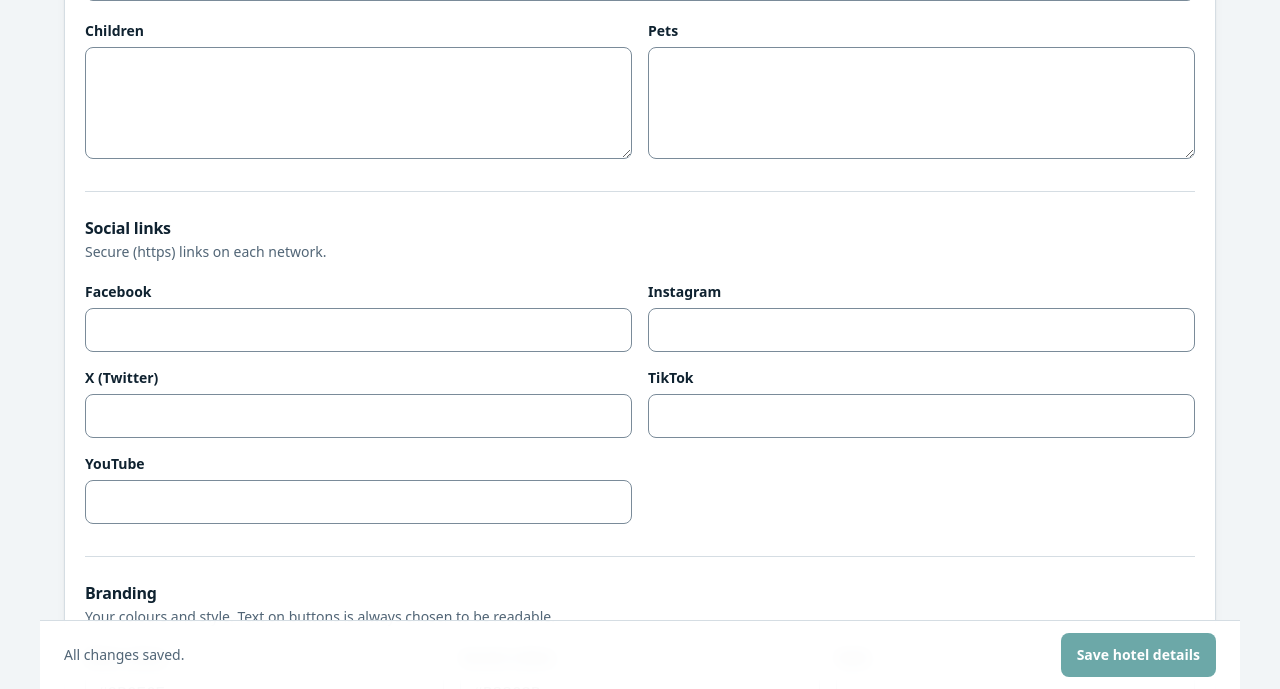
Scenario: hotel details form › Facebook: shows a clear message and sends nothing
This screenshot has width=1280, height=689.
(page scrolled)
Type "http://facebook.com/x" into the field labelled "Facebook".
click(358, 330); type("http://facebook.com/x")  # box [85,308,632,352]
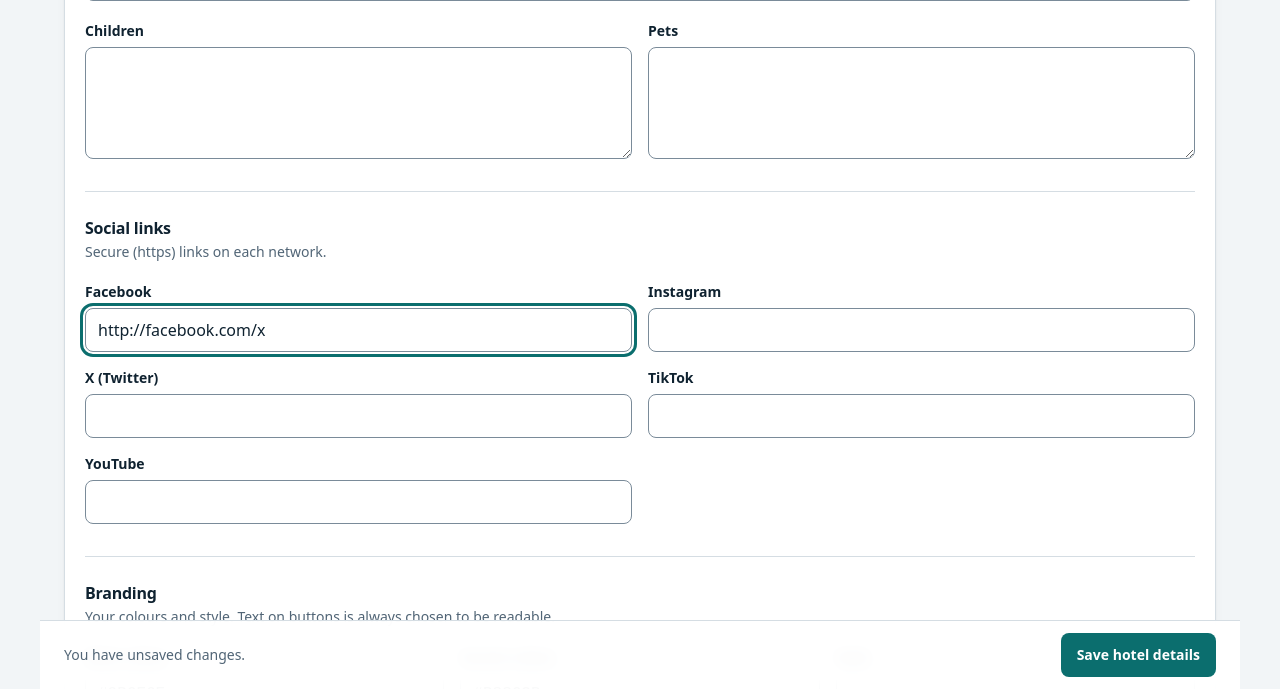
Click the button "Save hotel details".
click(1138, 655)  # box [1061,633,1216,677]
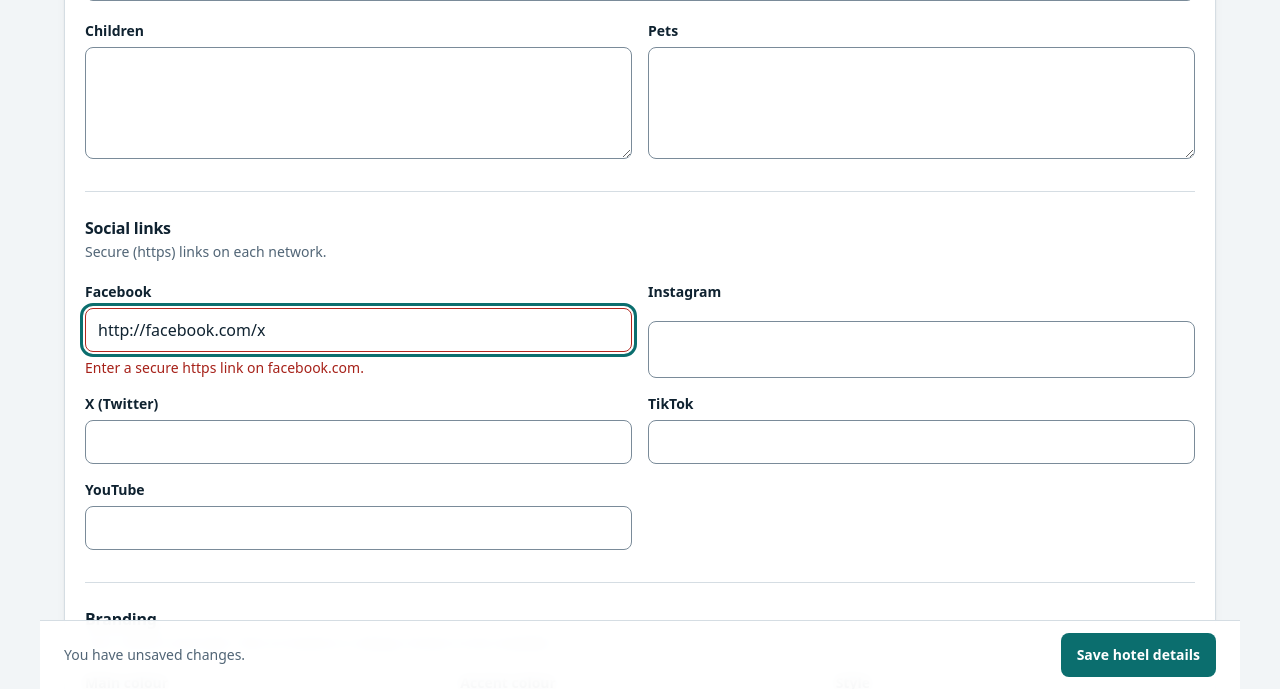
Now the text "Enter a secure https link on facebook.com." is shown, box [85,358,364,377]
